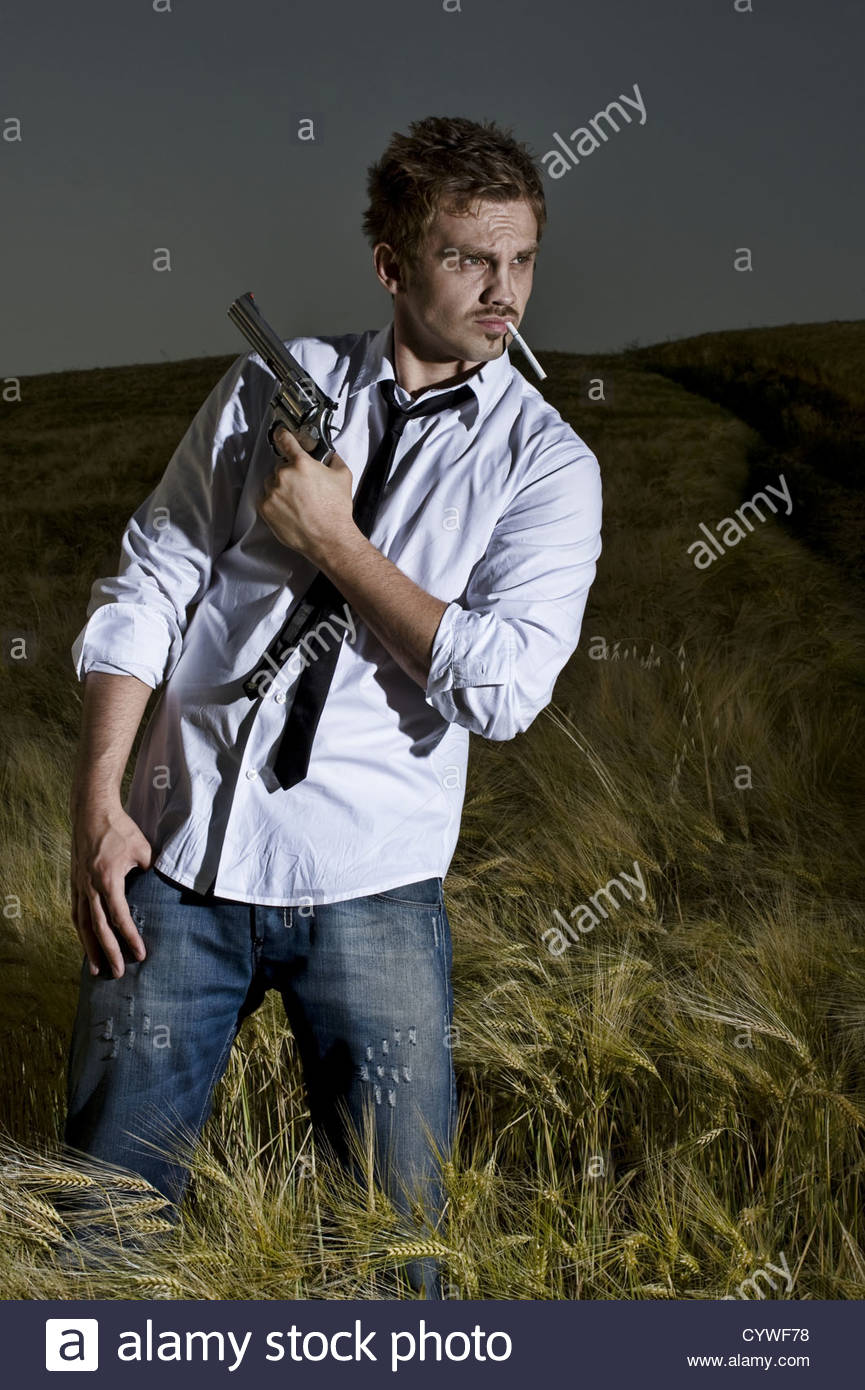Revolver: (210, 275, 368, 497)
